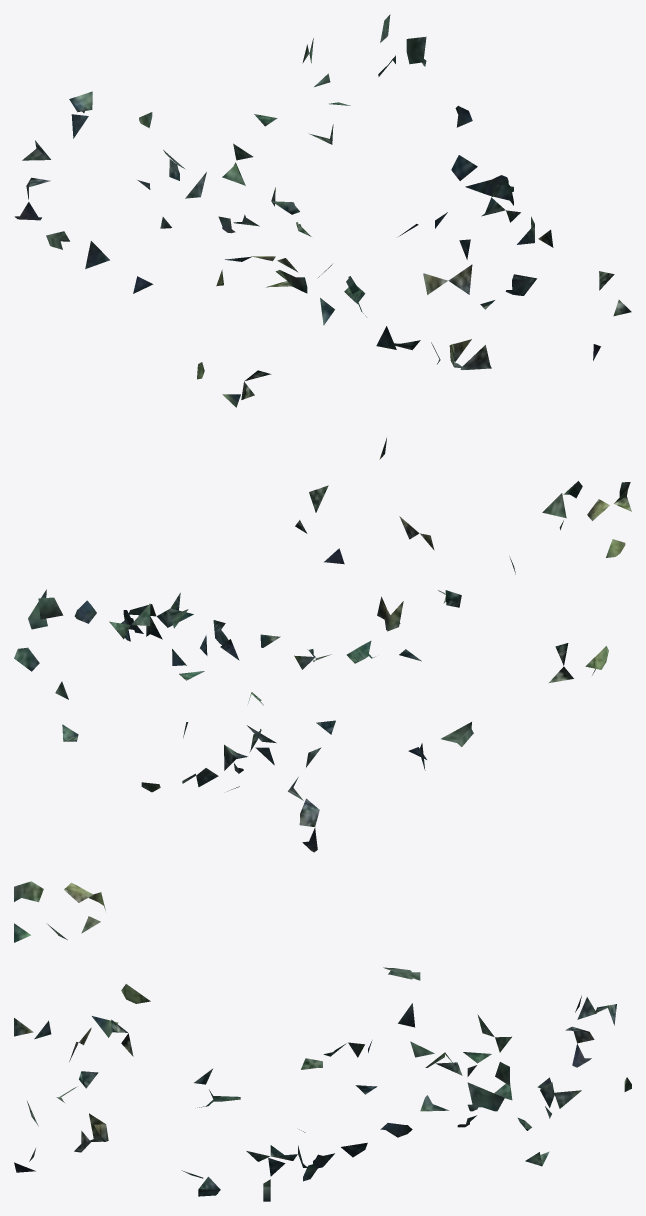
3 renders of one model, top to bottom at view 1: azimuth 30°, elevation 25°; view 2: azimuth 150°, elevation 25°; view 3: azimuth 270°, elevation 25°, orthographic. The views are drawn at different scales.
Visible parts, largest first — view 1: 30436272704361436426_1; view 2: 30436272704361436426_1; view 3: 30436272704361436426_1.
Part boxes in pixels (bbox=[...]): 30436272704361436426_1: bbox=[14, 14, 631, 407]; 30436272704361436426_1: bbox=[14, 438, 631, 852]; 30436272704361436426_1: bbox=[14, 881, 631, 1201].
Bounding box in the file's own units: 27.31 × 11.09 × 38.26.
1 material, 1 textured.
